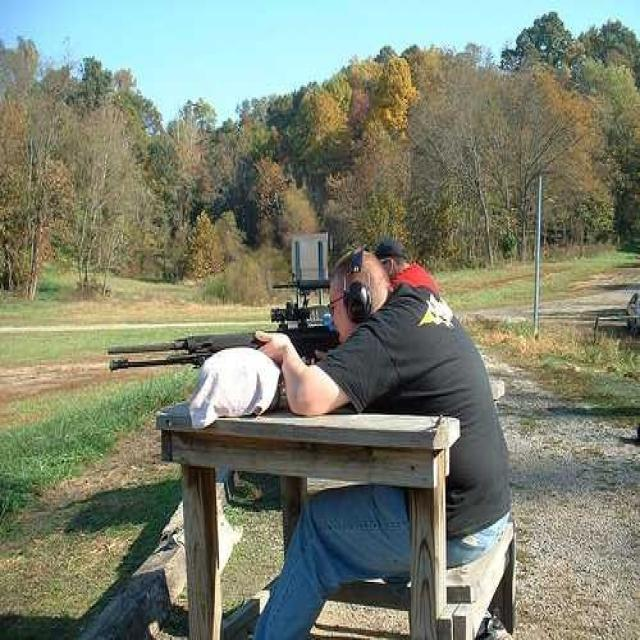heavyweapon: (93, 298, 358, 390)
